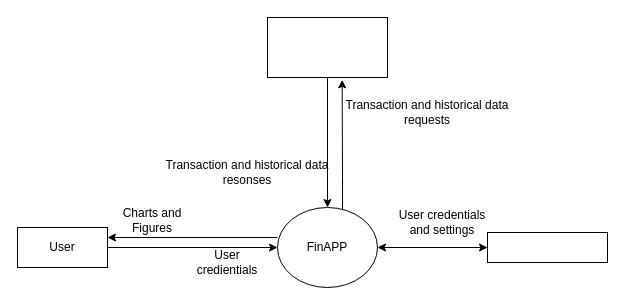
Image size: 625x305. Some labels were removed from this diagram. Each missing label, with the centre of its shape:
Plaid API: point (327, 47)
SQLite Database: point (547, 247)
